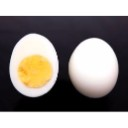begg: (69, 31, 119, 96), (10, 32, 59, 94)
